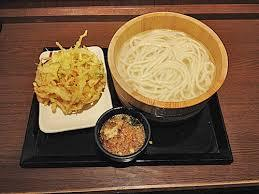bukkake: (112, 11, 223, 104)
kakiage: (33, 41, 102, 112)
